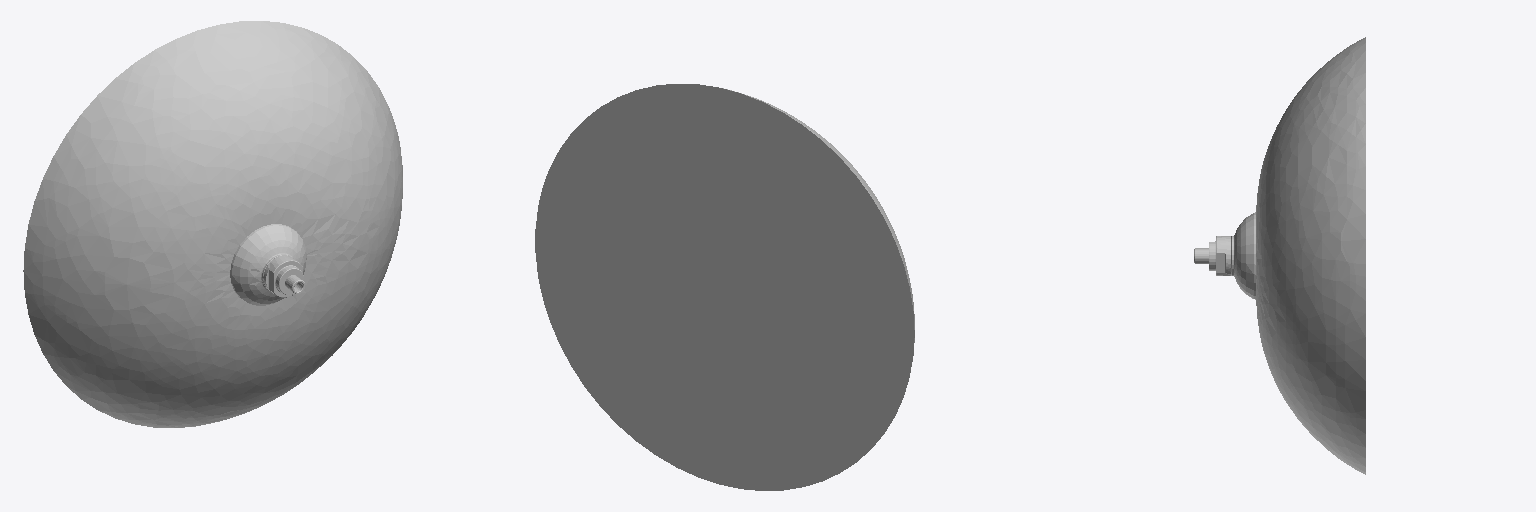
File: ARMONIA.obj
3 renders of one model, left to right at view 1: azimuth 30°, elevation 25°; view 2: azimuth 150°, elevation 25°; view 3: azimuth 270°, elevation 25°, orthographic.
Parts seen in each view (by area): view 1: Part__Feature; view 2: Part__Feature; view 3: Part__Feature.
Boxes of the visible parts, box(x1,y1,x2,y2) form: Part__Feature: box(23, 21, 402, 427); Part__Feature: box(535, 84, 914, 490); Part__Feature: box(1194, 37, 1365, 474).
Bounding box in the file's own units: 600 × 600 × 235.